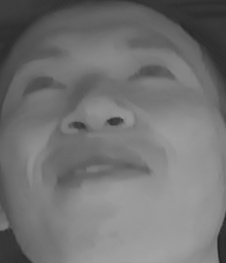eye: (125, 54, 181, 92), (16, 68, 70, 105)
mouth: (45, 144, 151, 200)
